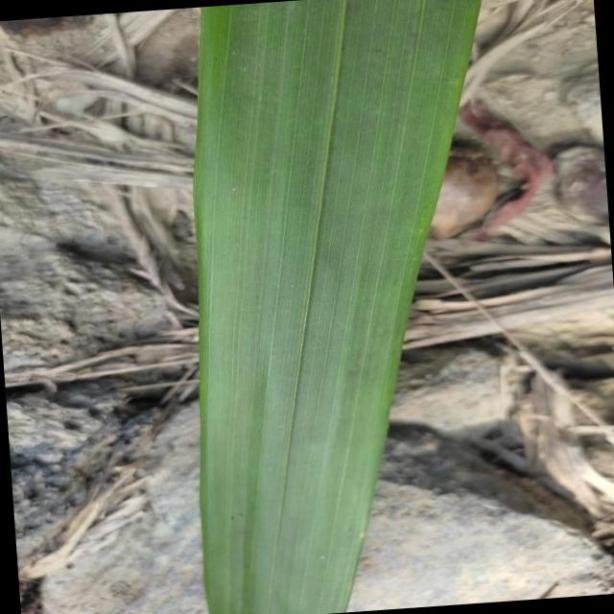Healthy: (197, 0, 483, 614)
